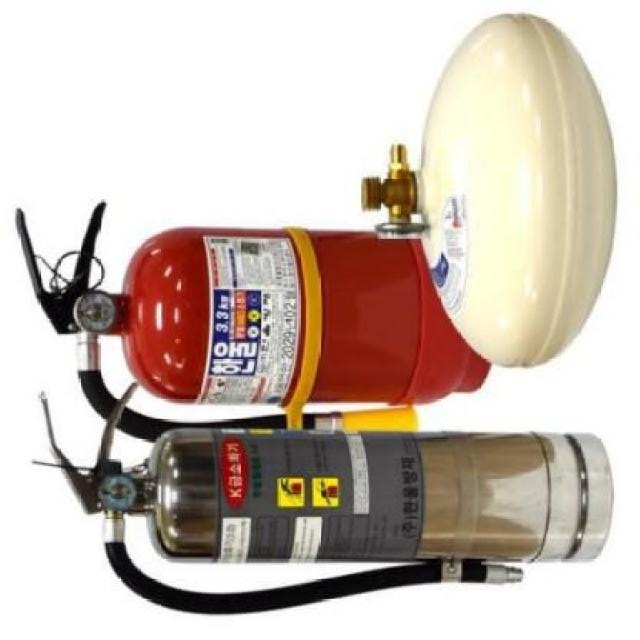fire extinguisher: (37, 381, 611, 615), (15, 202, 493, 444)
